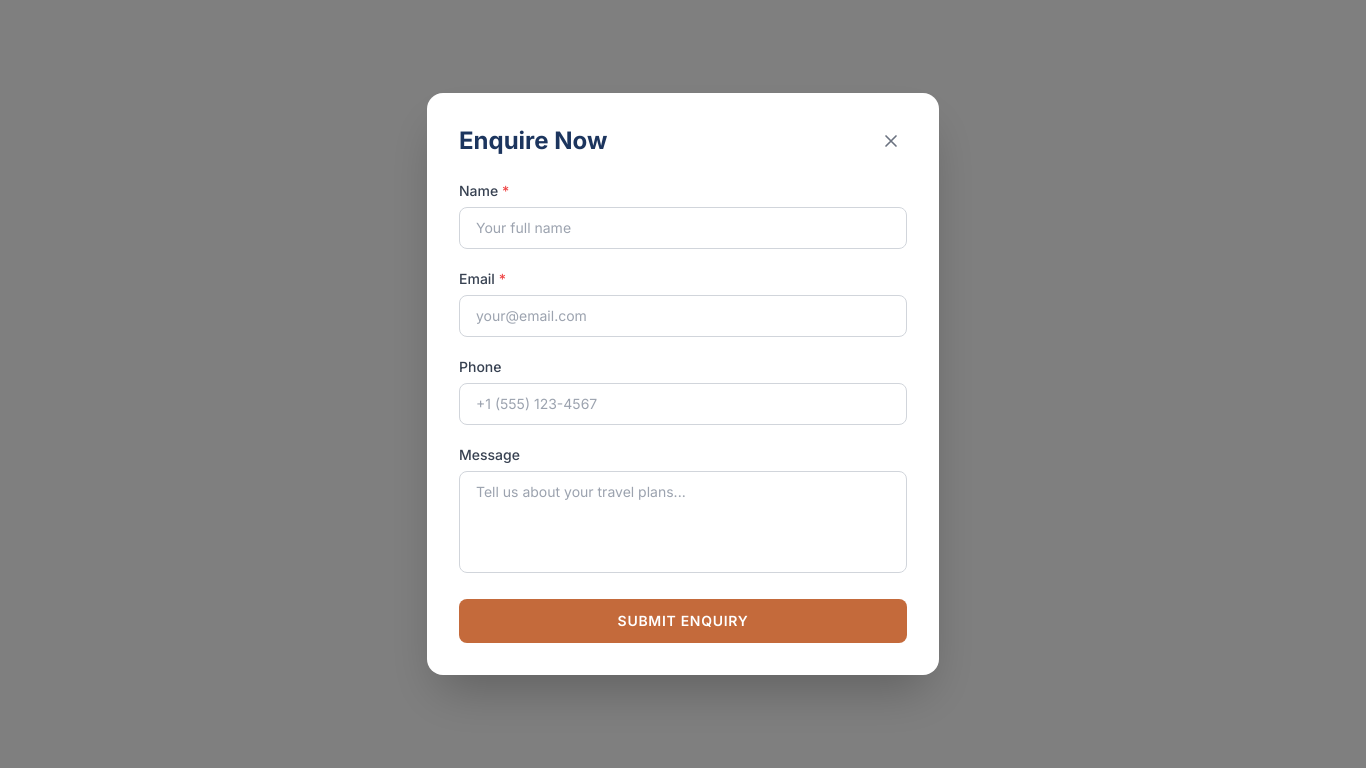
it: EnquiryForm › shows error message on submission failure
In the field labelled "Name *": (683, 228) [459,207,907,249], type "John Doe"
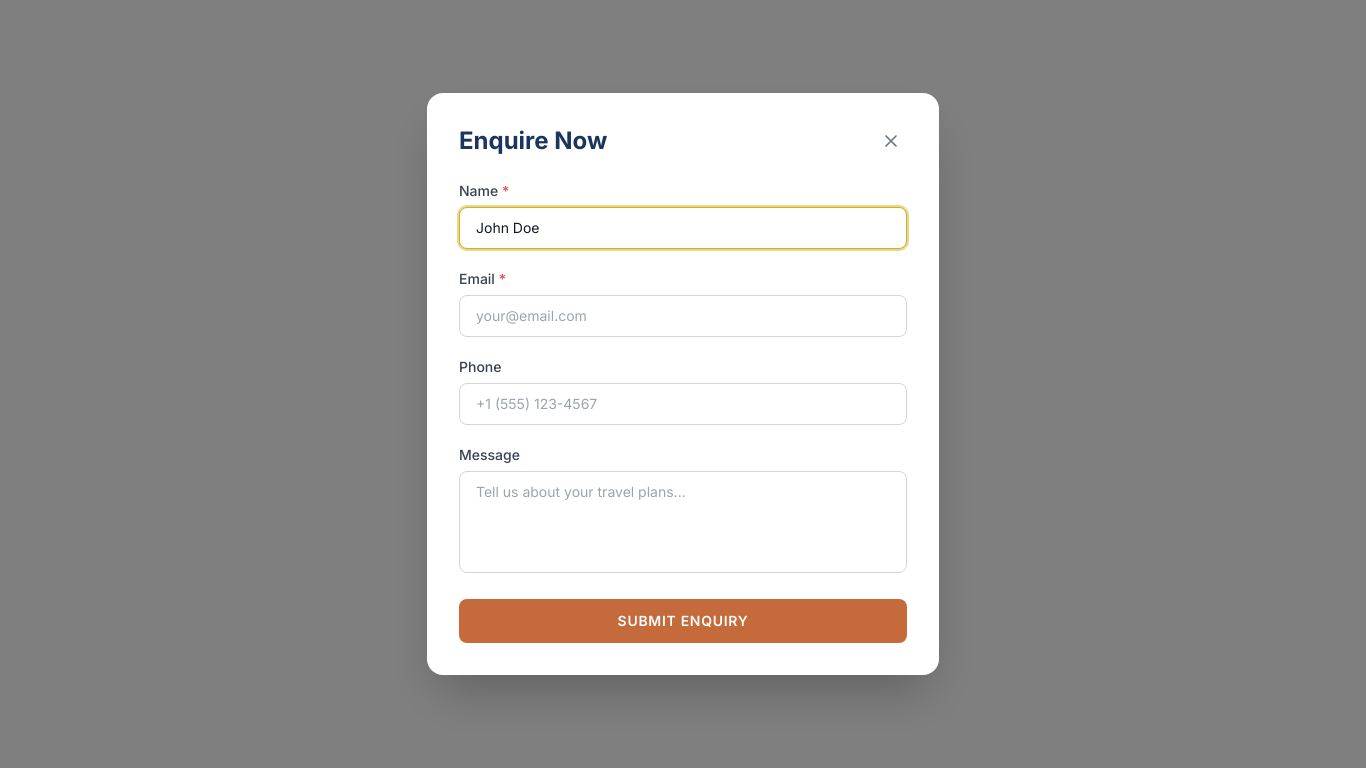
In the field labelled "Email *": (683, 316) [459,295,907,337], type "john@example.com"
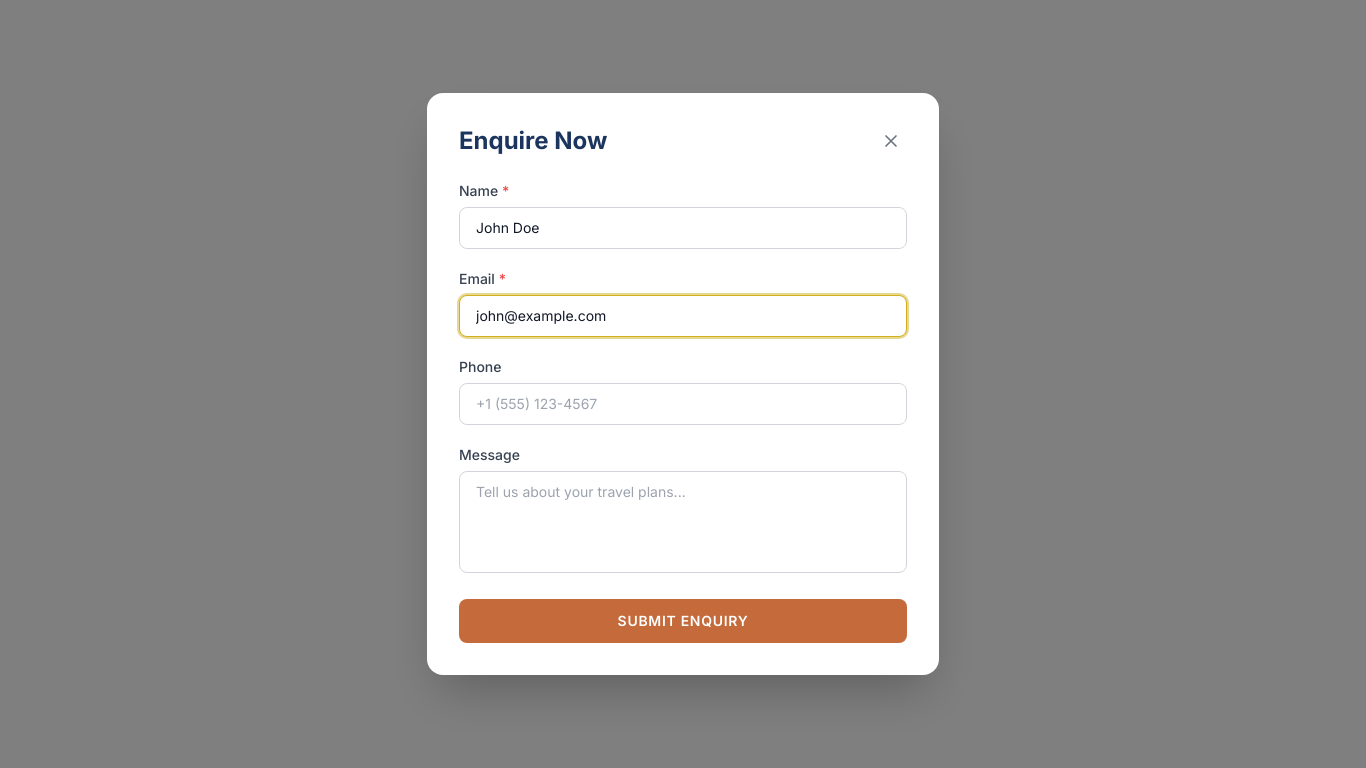
Click the button "Submit Enquiry": (683, 621) [459,599,907,643]
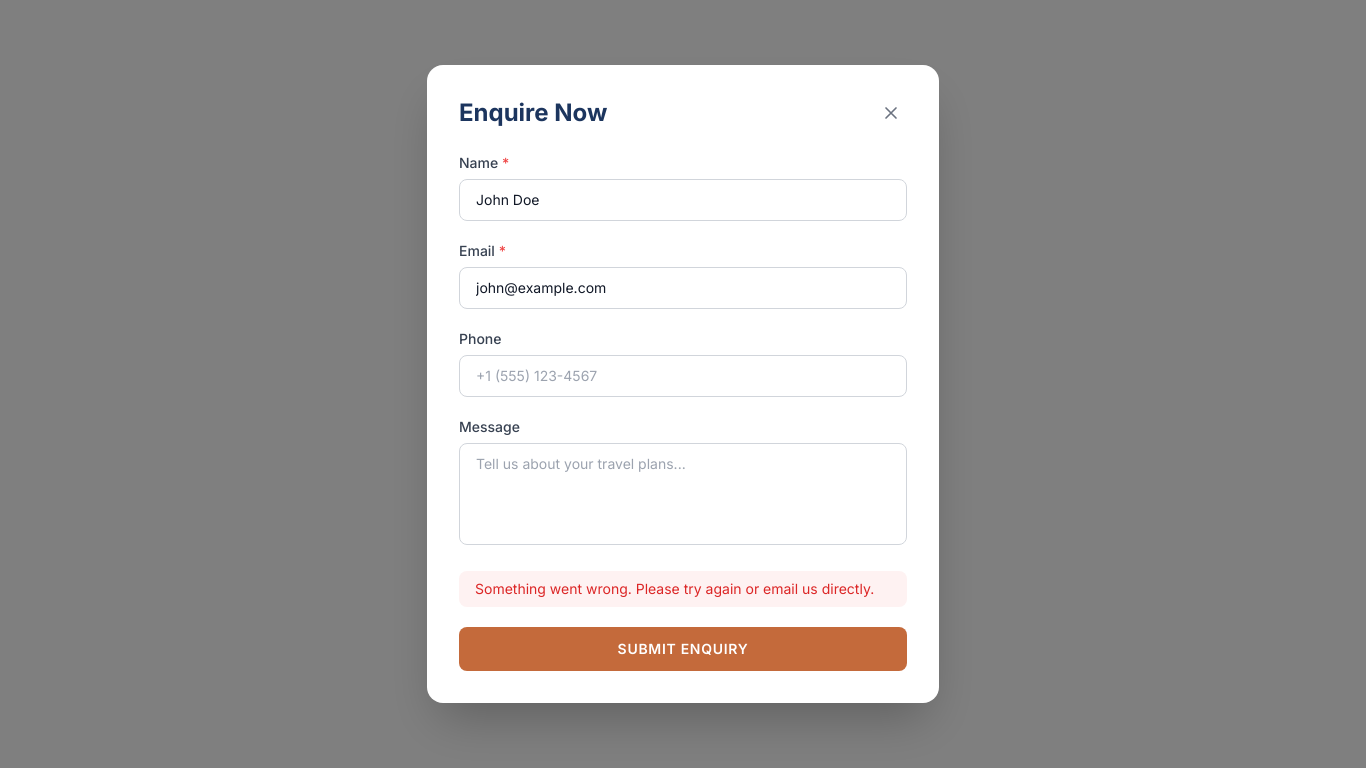
Expected: the text "Something went wrong. Please try again or email us directly." is shown, [459,571,907,607]
